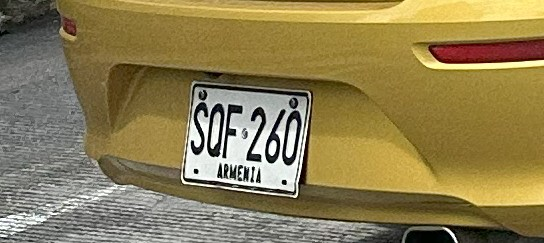number plate: (181, 81, 310, 197)
